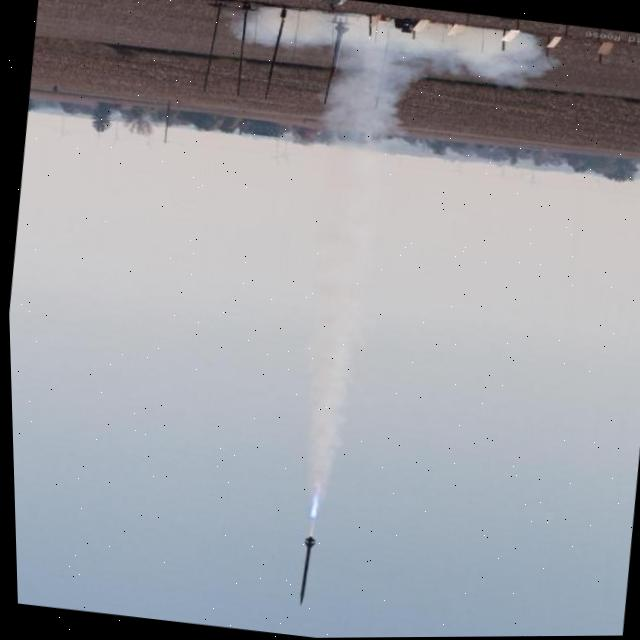missile: (285, 530, 316, 608)
